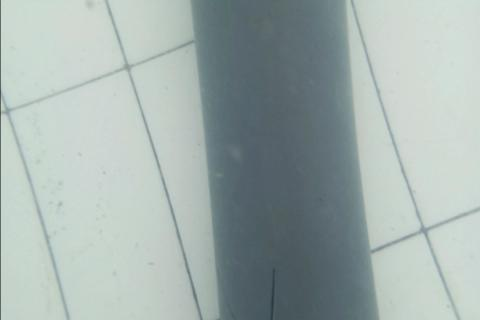keretakan: (267, 265, 277, 320), (226, 304, 235, 320)
